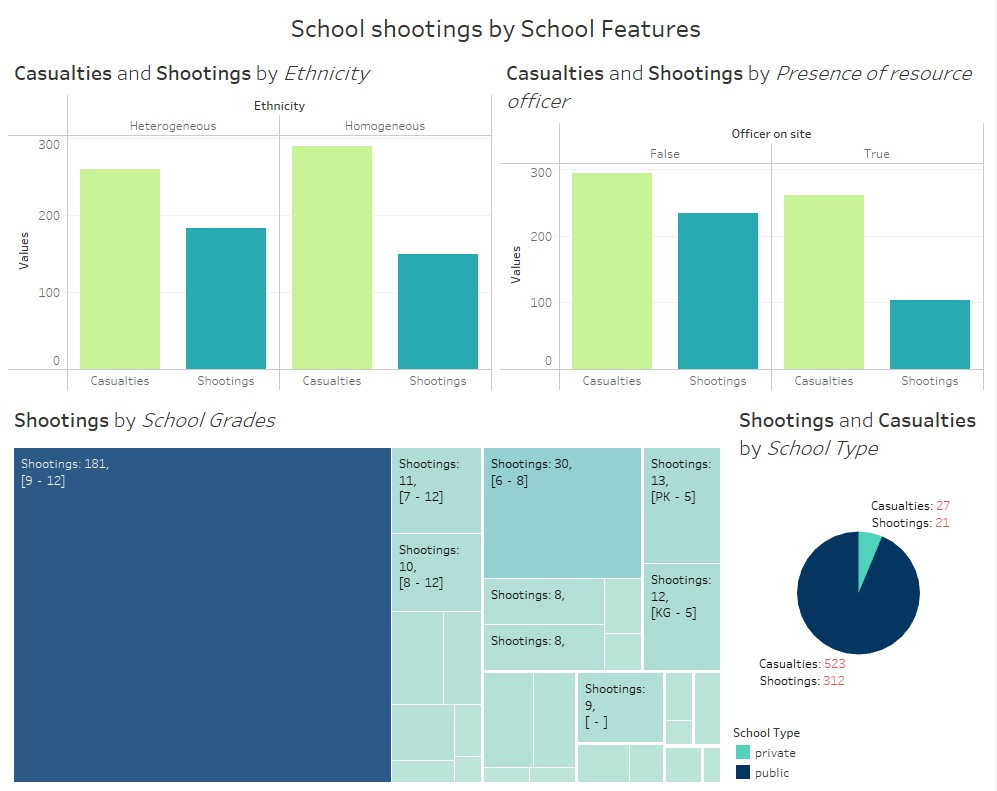

What the dashboard file says about the page in this screenshot:
{"tool":"tableau","page":{"name":"Dashboard 3","canvas":[1000,800],"ordinal":2},"visuals":[{"type":"title","box":[8,8,984,41]},{"type":"worksheet","title":"Foglio 9","mark":"Automatic","cols":["ethnicity"],"box":[8,49,492,346.9]},{"type":"worksheet","title":"Foglio 10","mark":"Automatic","cols":["Calculation_870320662663536640"],"box":[500,49,492,346.9]},{"type":"worksheet","title":"Foglio 5","mark":"Automatic","box":[8,395.9,725,396.1]},{"type":"worksheet","title":"Foglio 7","mark":"Pie","box":[733,395.9,259,325.1]},{"type":"legend","title":"Foglio 7","param":"[federated.00n8yx204fzjsb174z7tm0abgyw3].[none:school_type:nk]","box":[733,720.9,259,71.1]}]}

Visuals, with their boxes in screenshot pixels (x1, y1, x2, y2), scaled from the page's 1000x800 canvas onto the 997x791 screenshot:
title: pyautogui.locateOnScreen(8, 8, 989, 48)
"Foglio 9" worksheet: pyautogui.locateOnScreen(8, 48, 498, 391)
"Foglio 10" worksheet: pyautogui.locateOnScreen(498, 48, 989, 391)
"Foglio 5" worksheet: pyautogui.locateOnScreen(8, 391, 731, 783)
"Foglio 7" worksheet (Pie marks): pyautogui.locateOnScreen(731, 391, 989, 713)
"Foglio 7" legend: pyautogui.locateOnScreen(731, 713, 989, 783)
